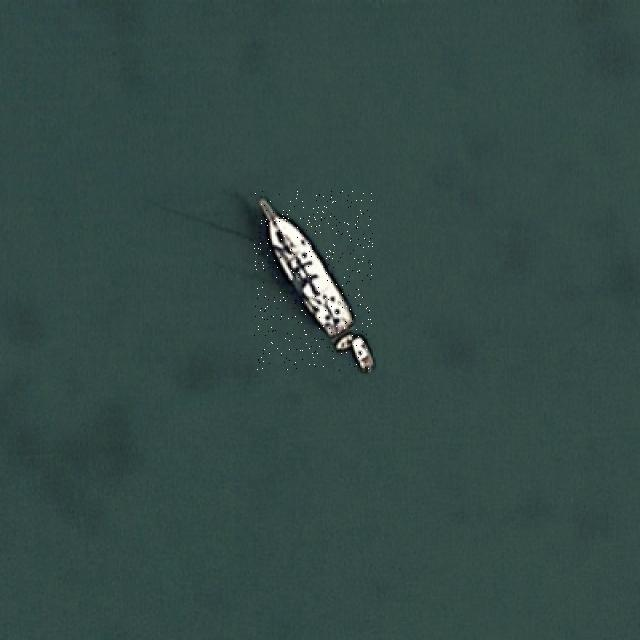boat: (254, 192, 373, 372)
